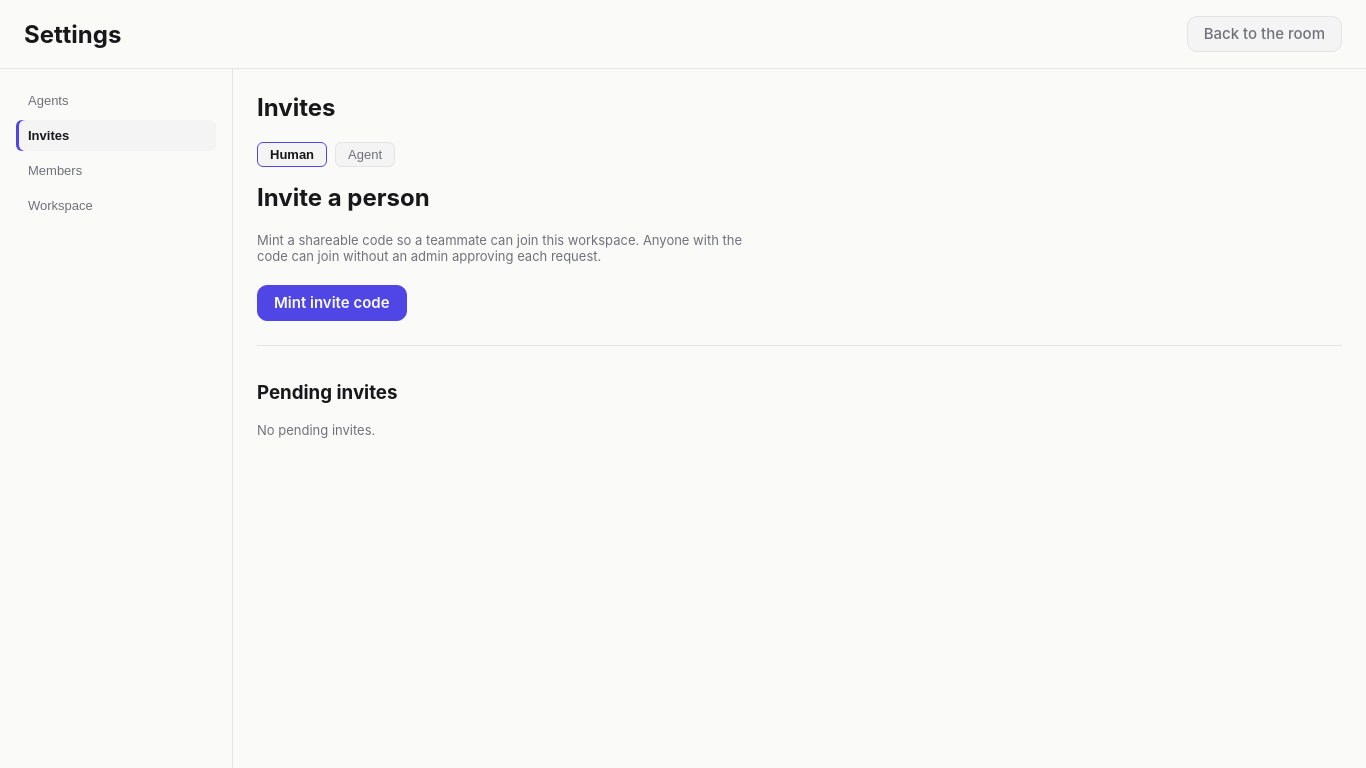
Test case: Invites panel (web spec §2) › an admin (both mint caps) gets a Human/Agent kind selector, defaulting to Human, switching sections on click
Expected: the heading "Invite a person" is shown, [257,183,430,212]
Expected: the heading "Invite an agent" is not shown
Click the button "Agent". click: (365, 154)
box: [335,142,395,167]
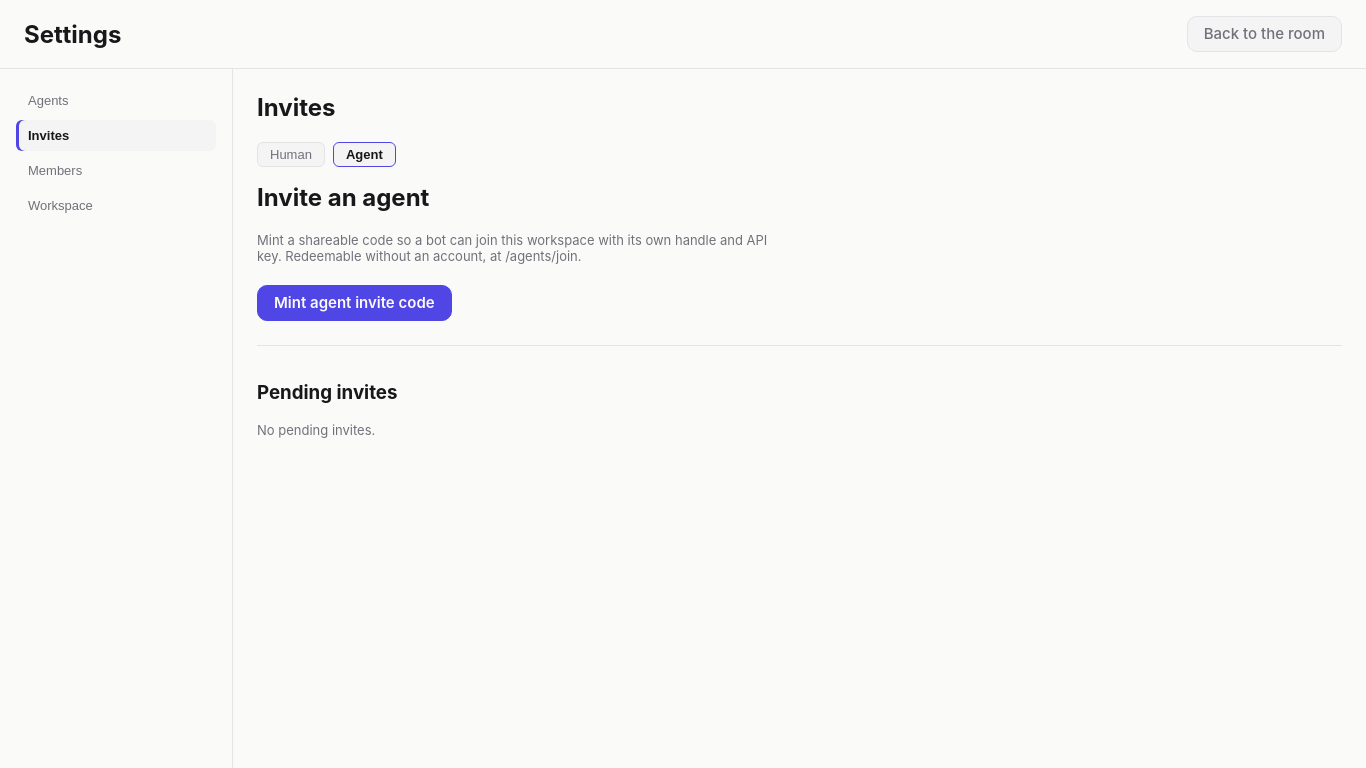
Expected: the heading "Invite an agent" is shown, [257,183,429,212]
Expected: the heading "Invite a person" is gone
